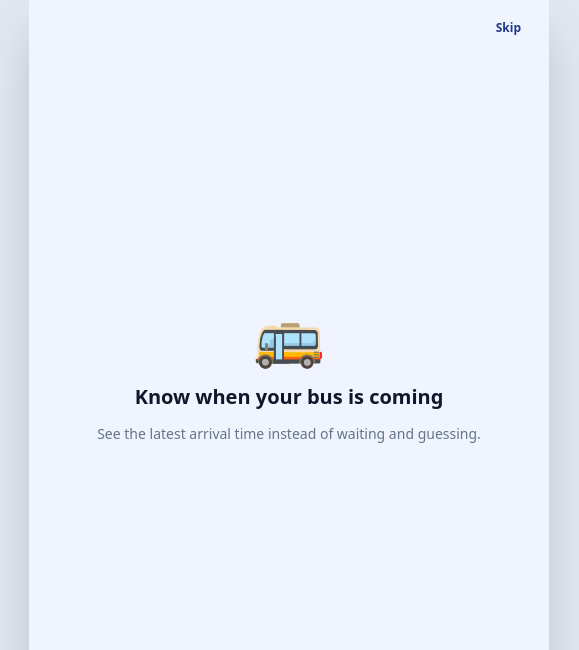
Scenario: leaves onboarding via Skip
Click the button "Skip" at (508, 28), box x1=492 y1=12 x2=525 y2=44
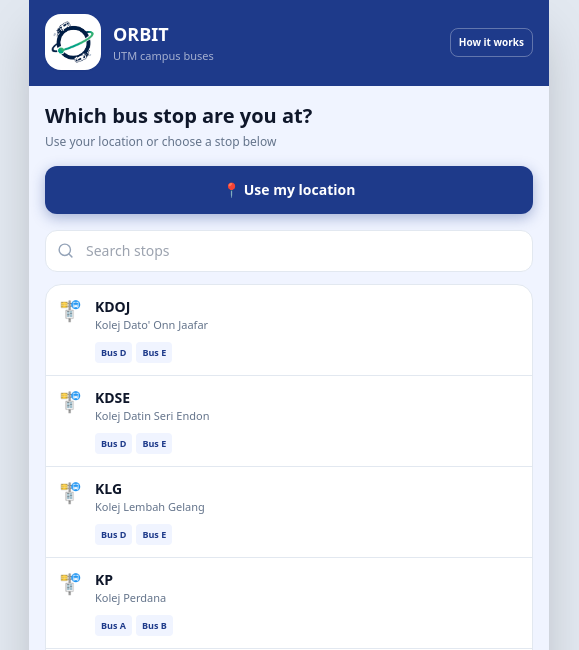
Expected: the heading "Which bus stop are you at?" is shown, x1=45 y1=102 x2=312 y2=129
